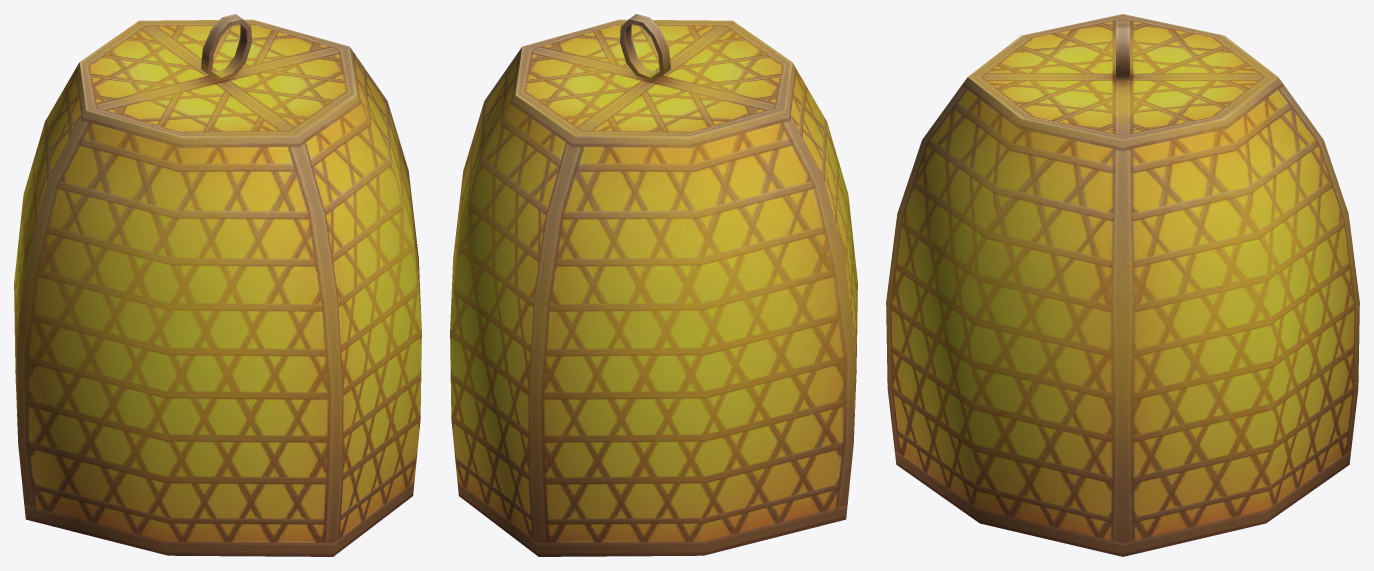
The model's file is furn_se2021_lantern_001.gltf.
3 renders of one model, left to right at view 1: azimuth 30°, elevation 25°; view 2: azimuth 150°, elevation 25°; view 3: azimuth 270°, elevation 25°, orthographic.
Visible parts, largest first — view 1: se2021_lantern_001; view 2: se2021_lantern_001; view 3: se2021_lantern_001.
Boxes of the visible parts, left/top/right/bottom form: se2021_lantern_001: left=14, top=14, right=421, bottom=556; se2021_lantern_001: left=450, top=14, right=857, bottom=556; se2021_lantern_001: left=886, top=14, right=1359, bottom=556.
Size of the model in its own units: 0.3461 by 0.3712 by 0.3594.
1 material, 1 textured.
